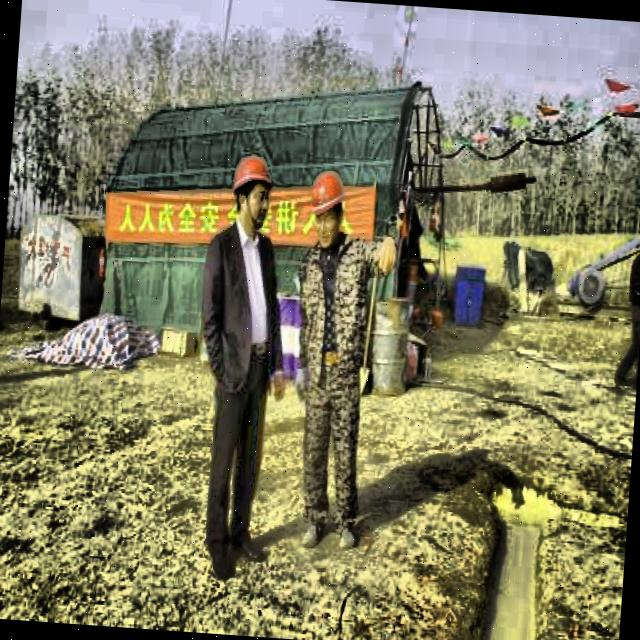helmet: (306, 166, 353, 251), (228, 149, 276, 232)
